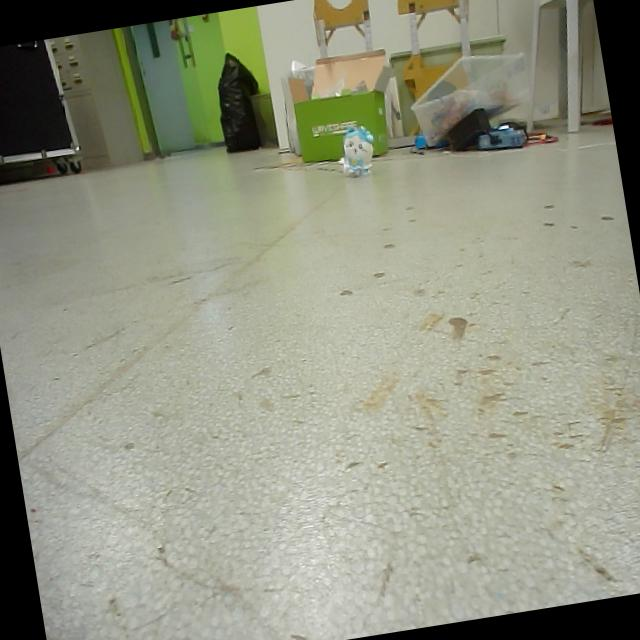xiaoba: (332, 120, 382, 189)
